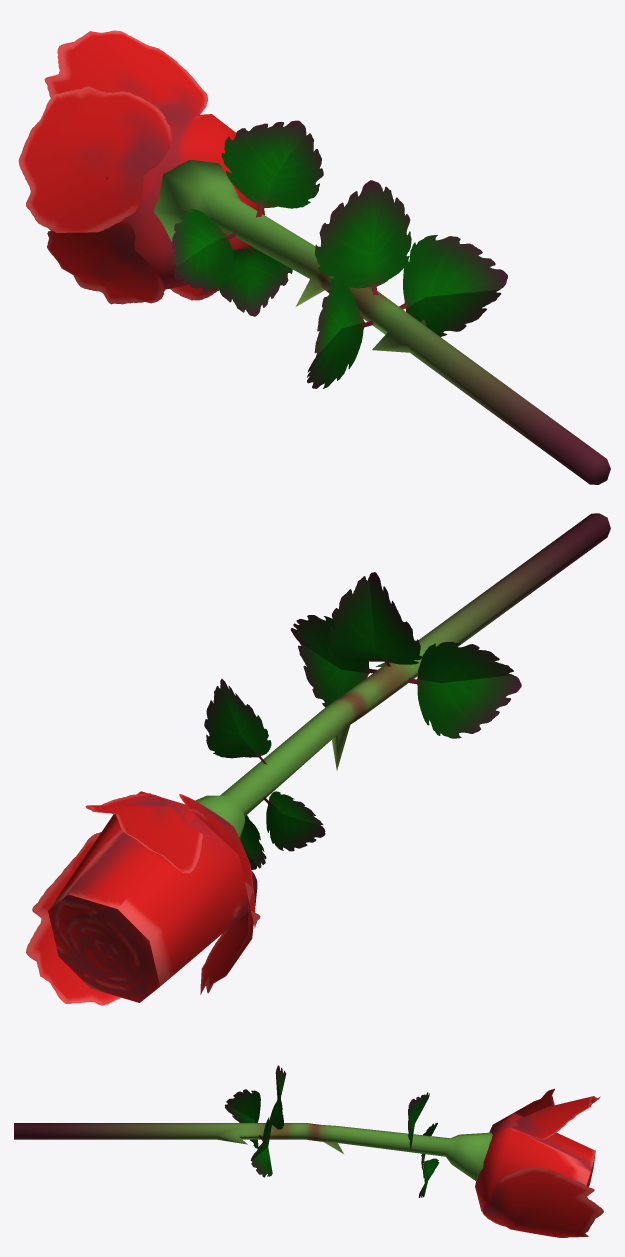
Rendered from SM_Rose_Red_Closed.fbx.
3 views of the same model, one above another, from view 1: azimuth 30°, elevation 25°; view 2: azimuth 150°, elevation 25°; view 3: azimuth 270°, elevation 25° (orthographic). The views are drawn at different scales.
Parts seen in each view (by area): view 1: Rose_Red_Closed; view 2: Rose_Red_Closed; view 3: Rose_Red_Closed.
Part boxes in pixels (x1,y1,x2,y2): Rose_Red_Closed: (18, 30, 610, 484); Rose_Red_Closed: (26, 513, 610, 1005); Rose_Red_Closed: (14, 1065, 603, 1237).
Size of the model in its own units: 35.12 by 42.85 by 129.
